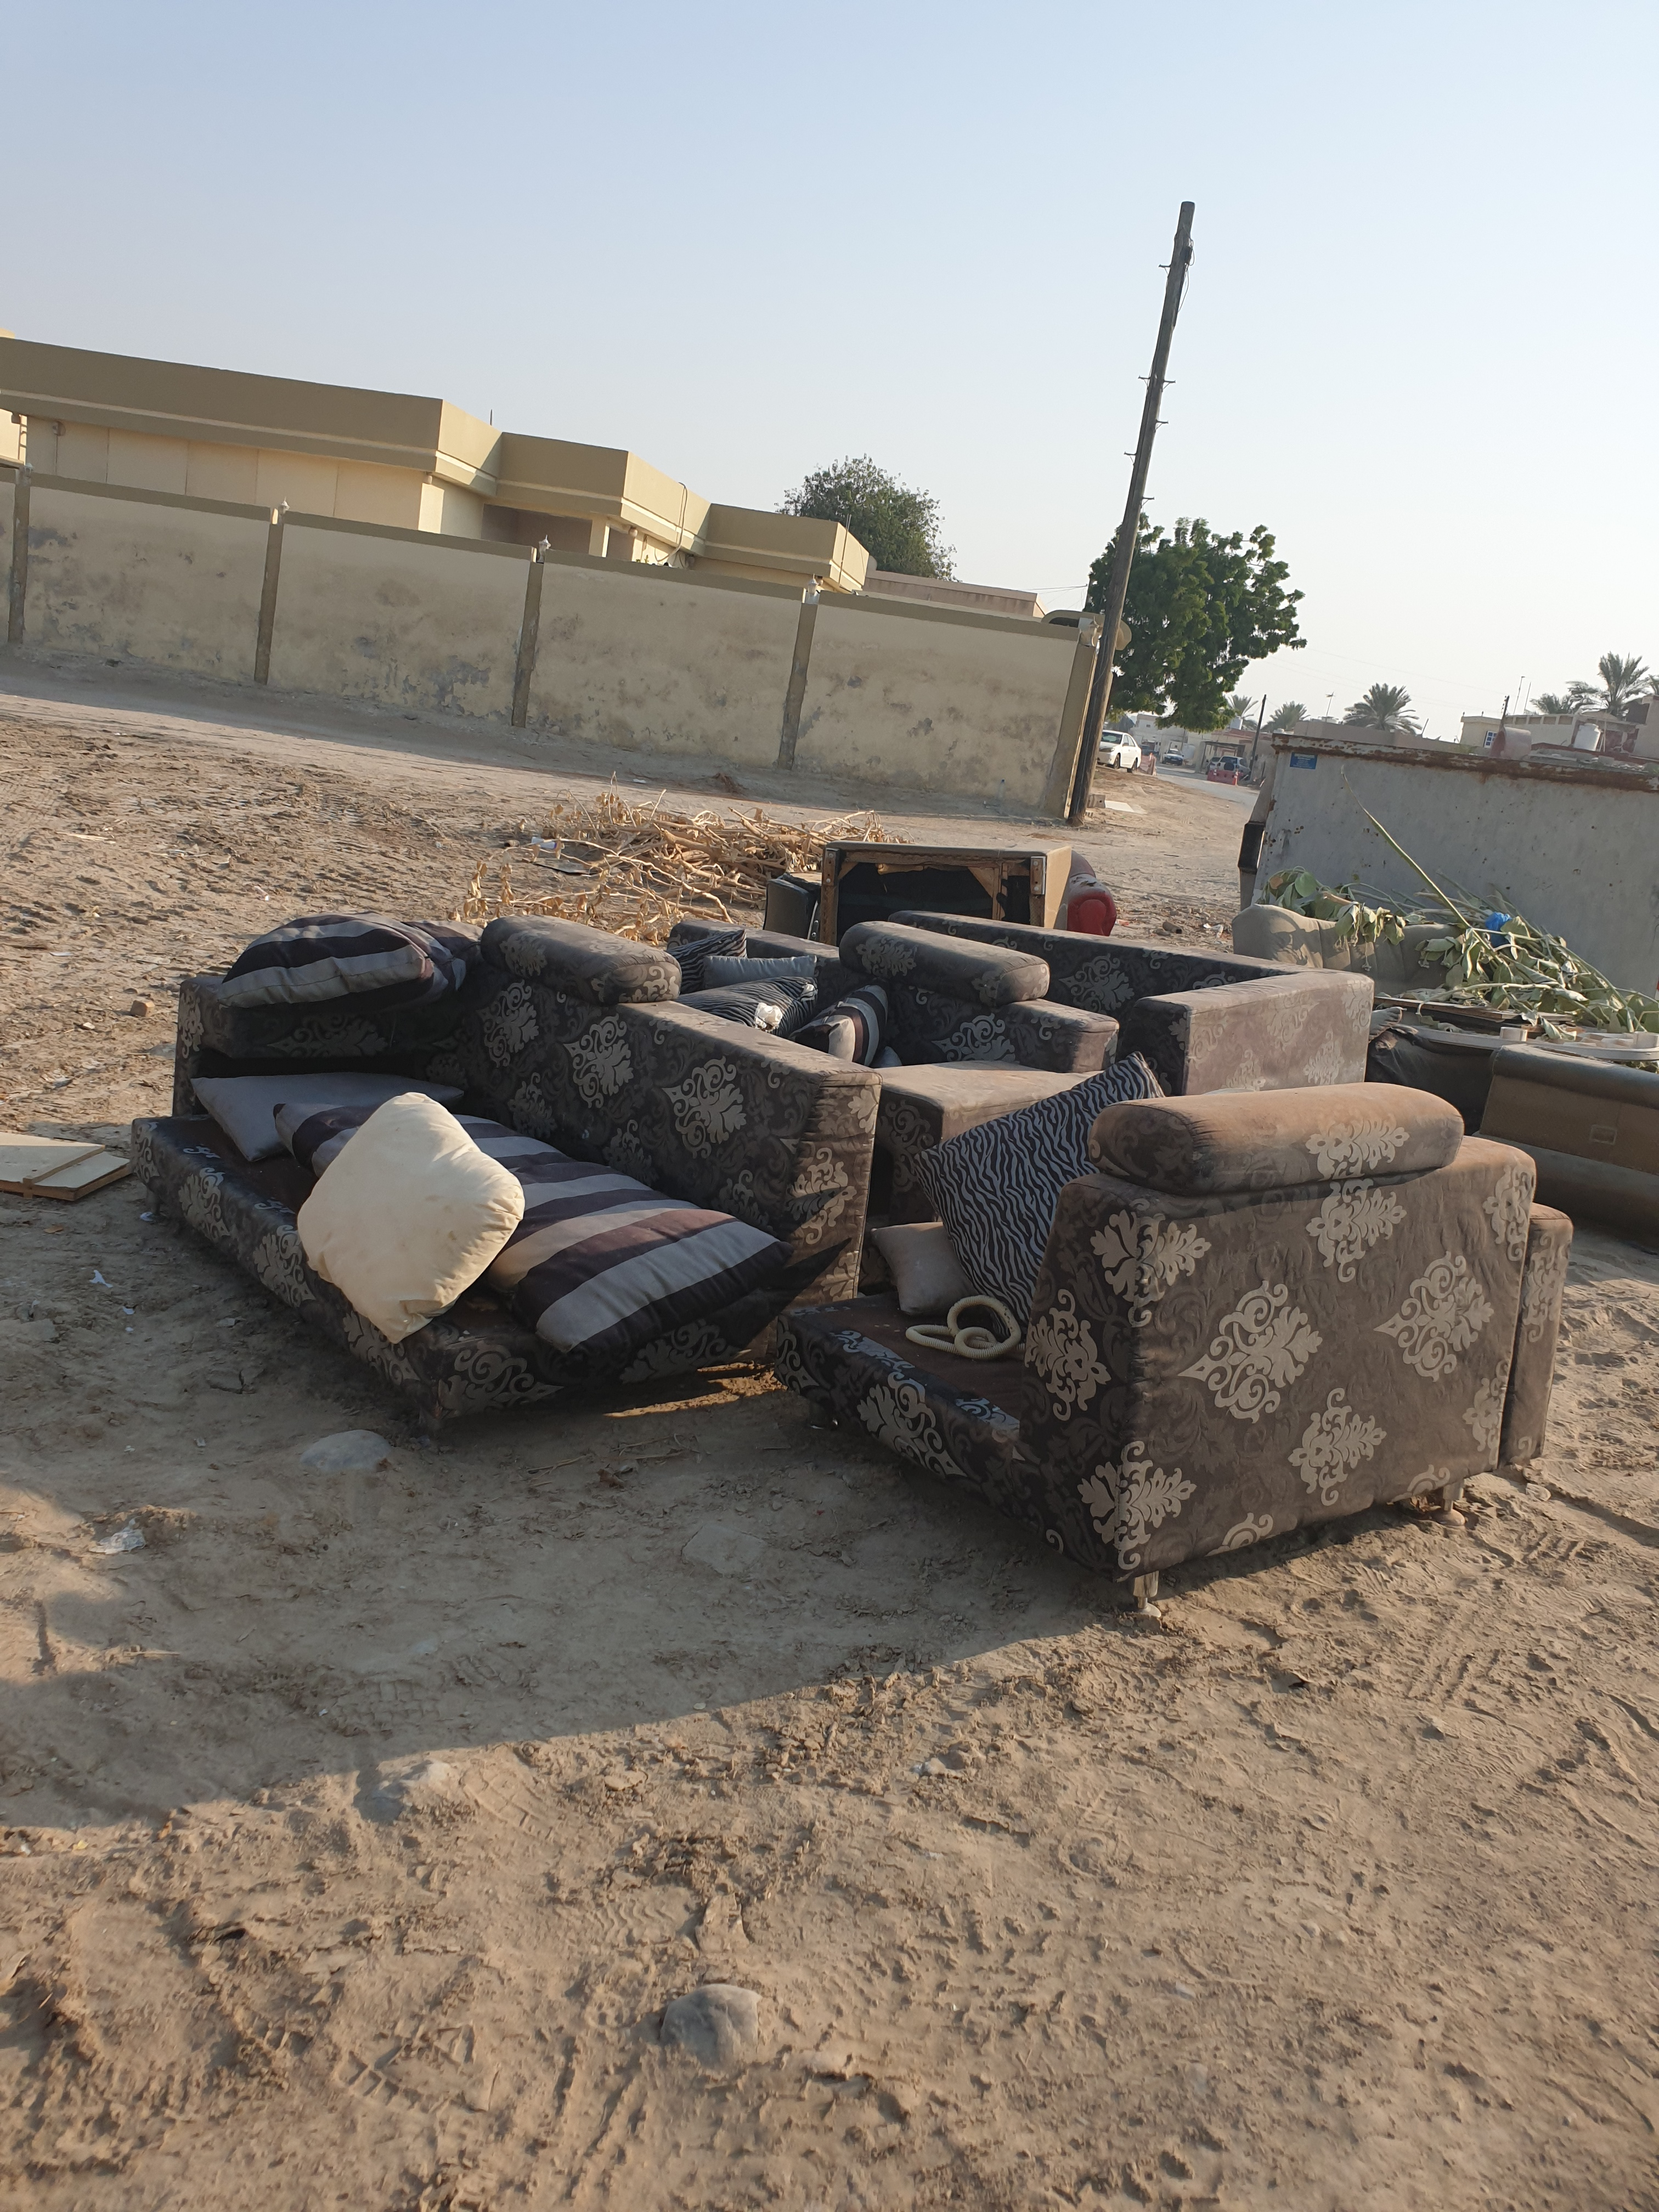uncollected_waste: (359, 1155, 1624, 1649), (587, 819, 1412, 1420), (856, 1061, 1600, 1602), (129, 897, 626, 1317), (181, 977, 570, 1263)
